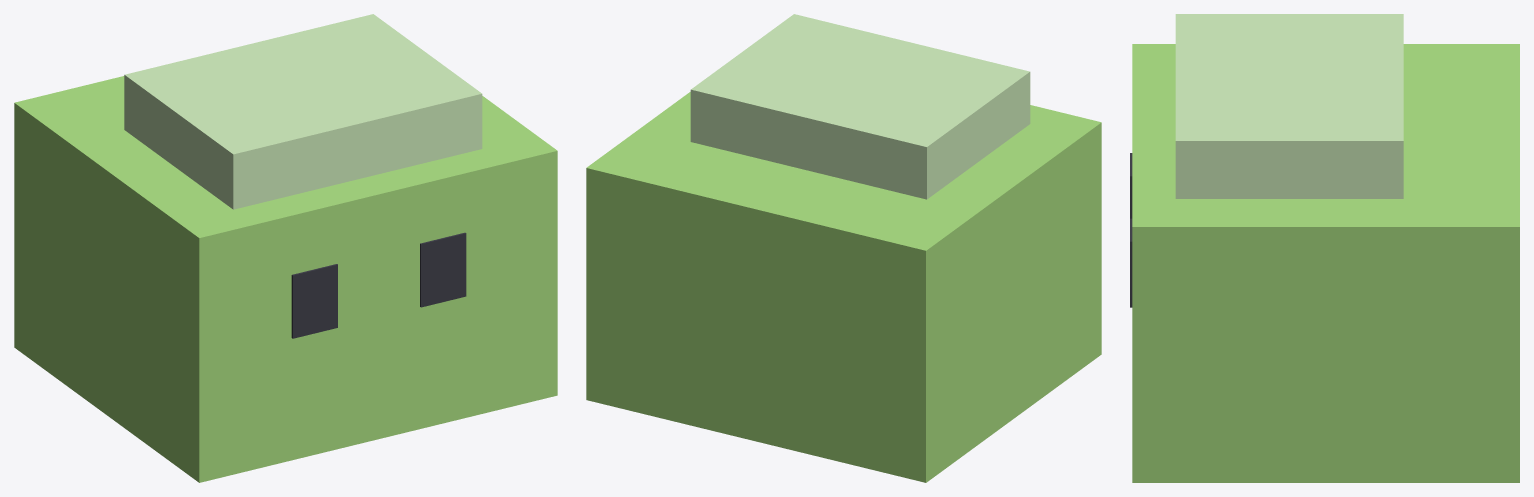
The model's file is split_treasure_leech.gltf.
3 views of the same model, side by side, from view 1: azimuth 30°, elevation 25°; view 2: azimuth 150°, elevation 25°; view 3: azimuth 270°, elevation 25° (orthographic). The views are drawn at different scales.
Parts seen in each view (by area): view 1: blob, dome, eyeL, eyeR; view 2: blob, dome; view 3: blob, dome.
Boxes of the visible parts, box(x1,y1,x2,y2) form: blob: box(14, 76, 557, 482); dome: box(124, 14, 482, 209); eyeL: box(291, 264, 337, 338); eyeR: box(420, 232, 466, 307); blob: box(586, 92, 1101, 482); dome: box(690, 14, 1030, 199); blob: box(1132, 44, 1519, 482); dome: box(1175, 14, 1403, 198).
Bounding box in the file's own units: 0.95 × 0.76 × 0.855.
